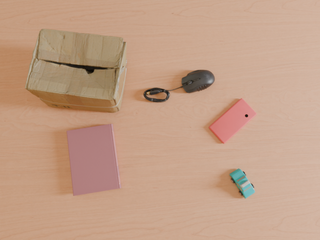book: (67, 124, 121, 196)
box: (25, 29, 127, 113)
mouse: (180, 70, 215, 93)
phone: (209, 98, 256, 144)
toy_car: (230, 169, 255, 198)
